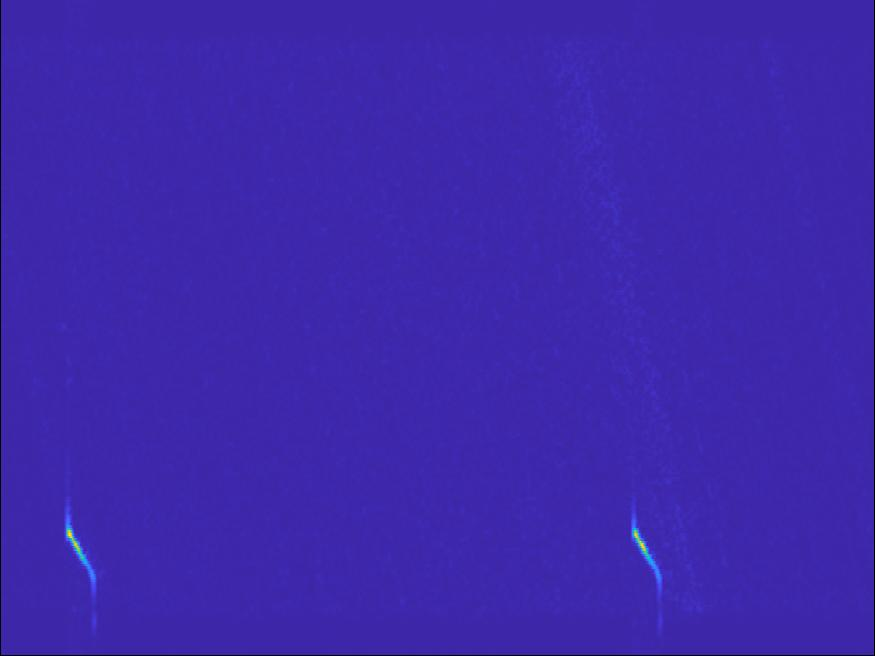Interference: (82, 281, 306, 356), (32, 1, 143, 38)
